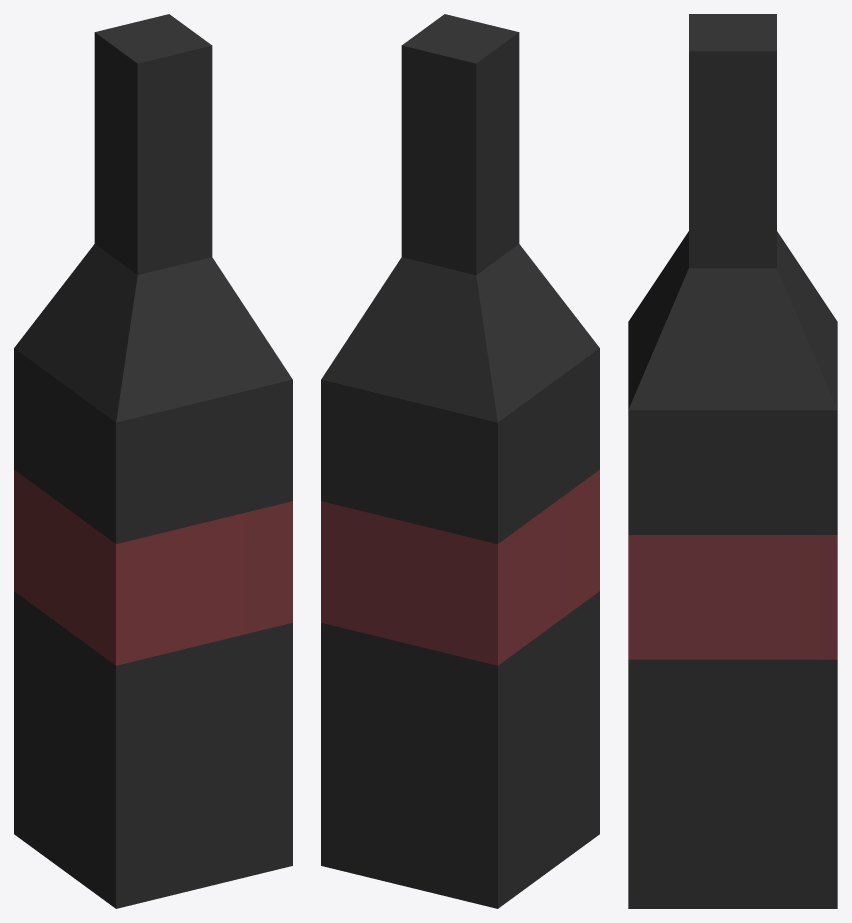
File: B01_bouteille_1_c.fbx
3 views of the same model, side by side, from view 1: azimuth 30°, elevation 25°; view 2: azimuth 150°, elevation 25°; view 3: azimuth 270°, elevation 25° (orthographic). The views are drawn at different scales.
Visible parts, largest first — view 1: B01_bouteille_1_c; view 2: B01_bouteille_1_c; view 3: B01_bouteille_1_c.
Part boxes in pixels (<box>): B01_bouteille_1_c: <box>14,14,292,908</box>; B01_bouteille_1_c: <box>321,14,599,908</box>; B01_bouteille_1_c: <box>628,14,837,908</box>.
Bounding box in the file's own units: 7.05 × 30.94 × 7.05.
